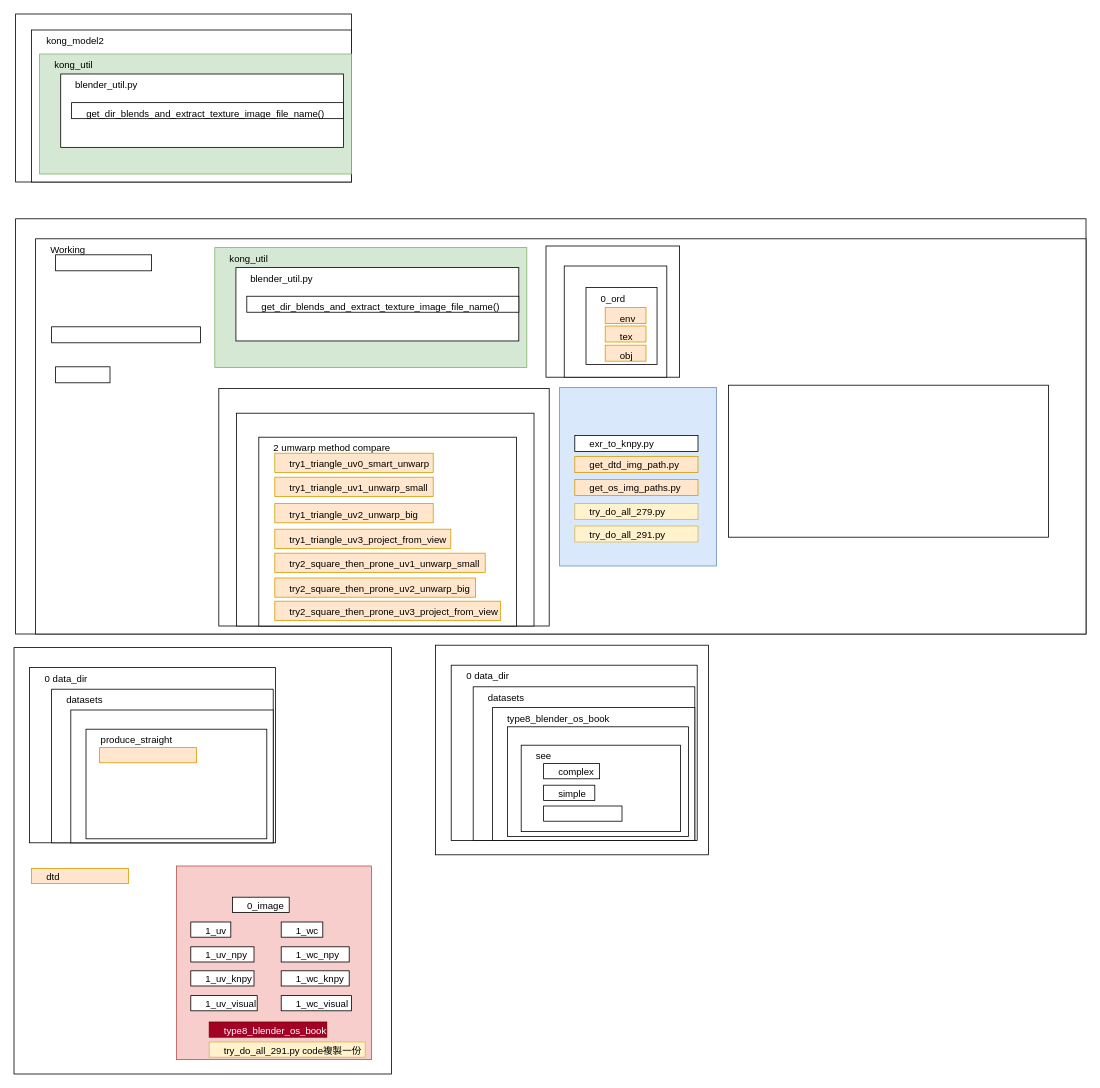
Some shapes in this 1100 by 1088 pixel diagram are drawn without their labels. Each missing label, with the box of its shape:
01_page_num_ok: (99, 747, 196, 763)
1 RealScene: (55, 254, 152, 271)
128G隨身碟: (15, 218, 1086, 634)
2 Blender: (545, 245, 680, 377)
2T Doc3D: (13, 647, 392, 1074)
3 RealScene_to_Blender: (218, 388, 549, 626)
4 Analyze_forward_backward: (51, 326, 200, 343)
400GB SSD: (435, 644, 708, 855)
5 Python write Blender: (559, 387, 716, 566)
6 Detail: (55, 366, 110, 383)
7 自己拍的: (728, 384, 1048, 537)
analyze3_unwarp_compare_and_image_uv_wc: (236, 412, 534, 626)
blender_os_hw512_have_bg: (507, 726, 688, 836)
data_dir: (563, 265, 667, 377)
kong_render_os_book_no_bg_768: (176, 865, 372, 1060)
more_simple: (543, 805, 622, 821)
type7_cut_os_book: (70, 709, 273, 843)
桌面: (15, 13, 352, 182)
